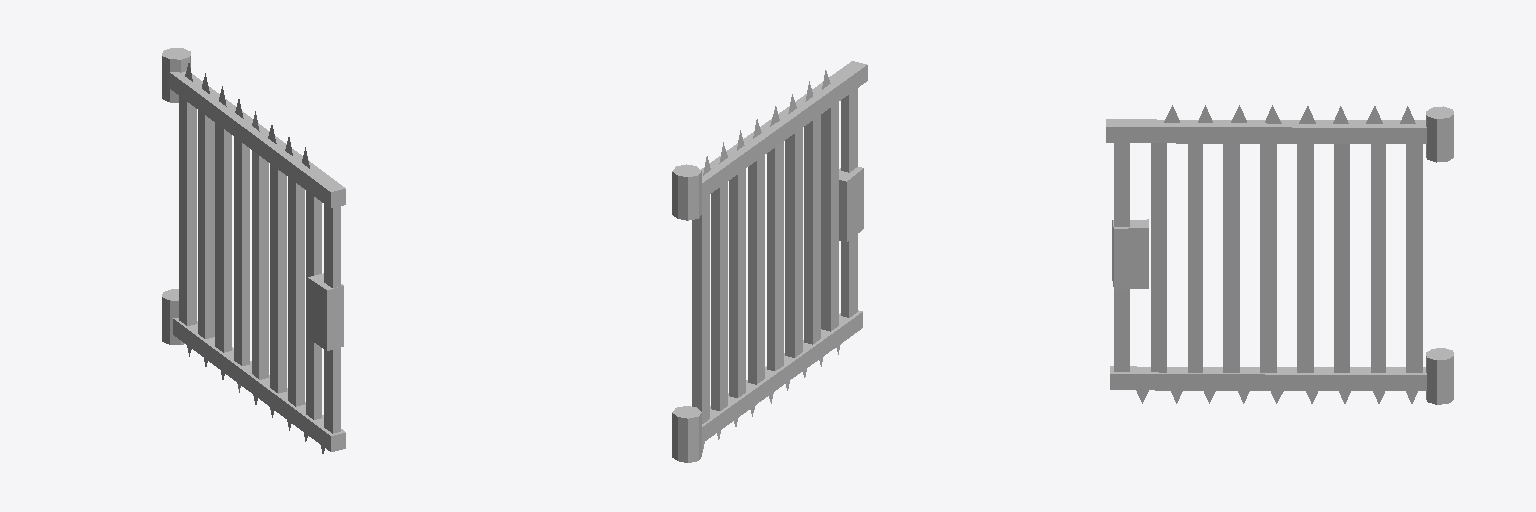
The model's file is fence_b.obj.
3 views of the same model, side by side, from view 1: azimuth 30°, elevation 25°; view 2: azimuth 150°, elevation 25°; view 3: azimuth 270°, elevation 25° (orthographic).
Visible parts, largest first — view 1: Group; view 2: Group; view 3: Group.
Boxes of the visible parts, <box> form: Group: <box>162,48,345,453</box>; Group: <box>672,61,867,462</box>; Group: <box>1106,105,1453,404</box>.
Bounding box in the file's own units: 4.83 × 50.4 × 53.34.